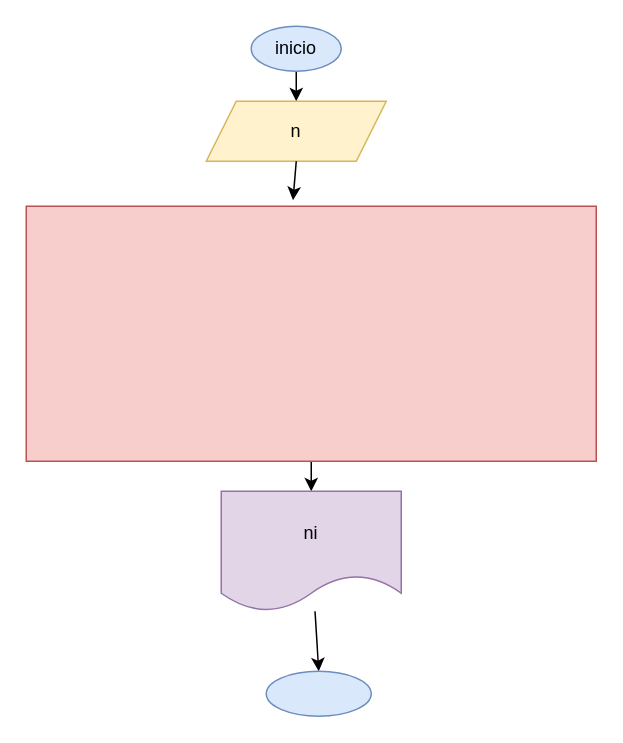
This 623x743 diagram has some shape labels left out. The shapes that lost their labels are listed below. From the top down, each one's box as (x1, y1, x2, y2) in pixels, then its label:
(25, 205, 596, 461): ni = r4*1000 + r3*100 + r2*10 + r1
(265, 670, 371, 716): fin
